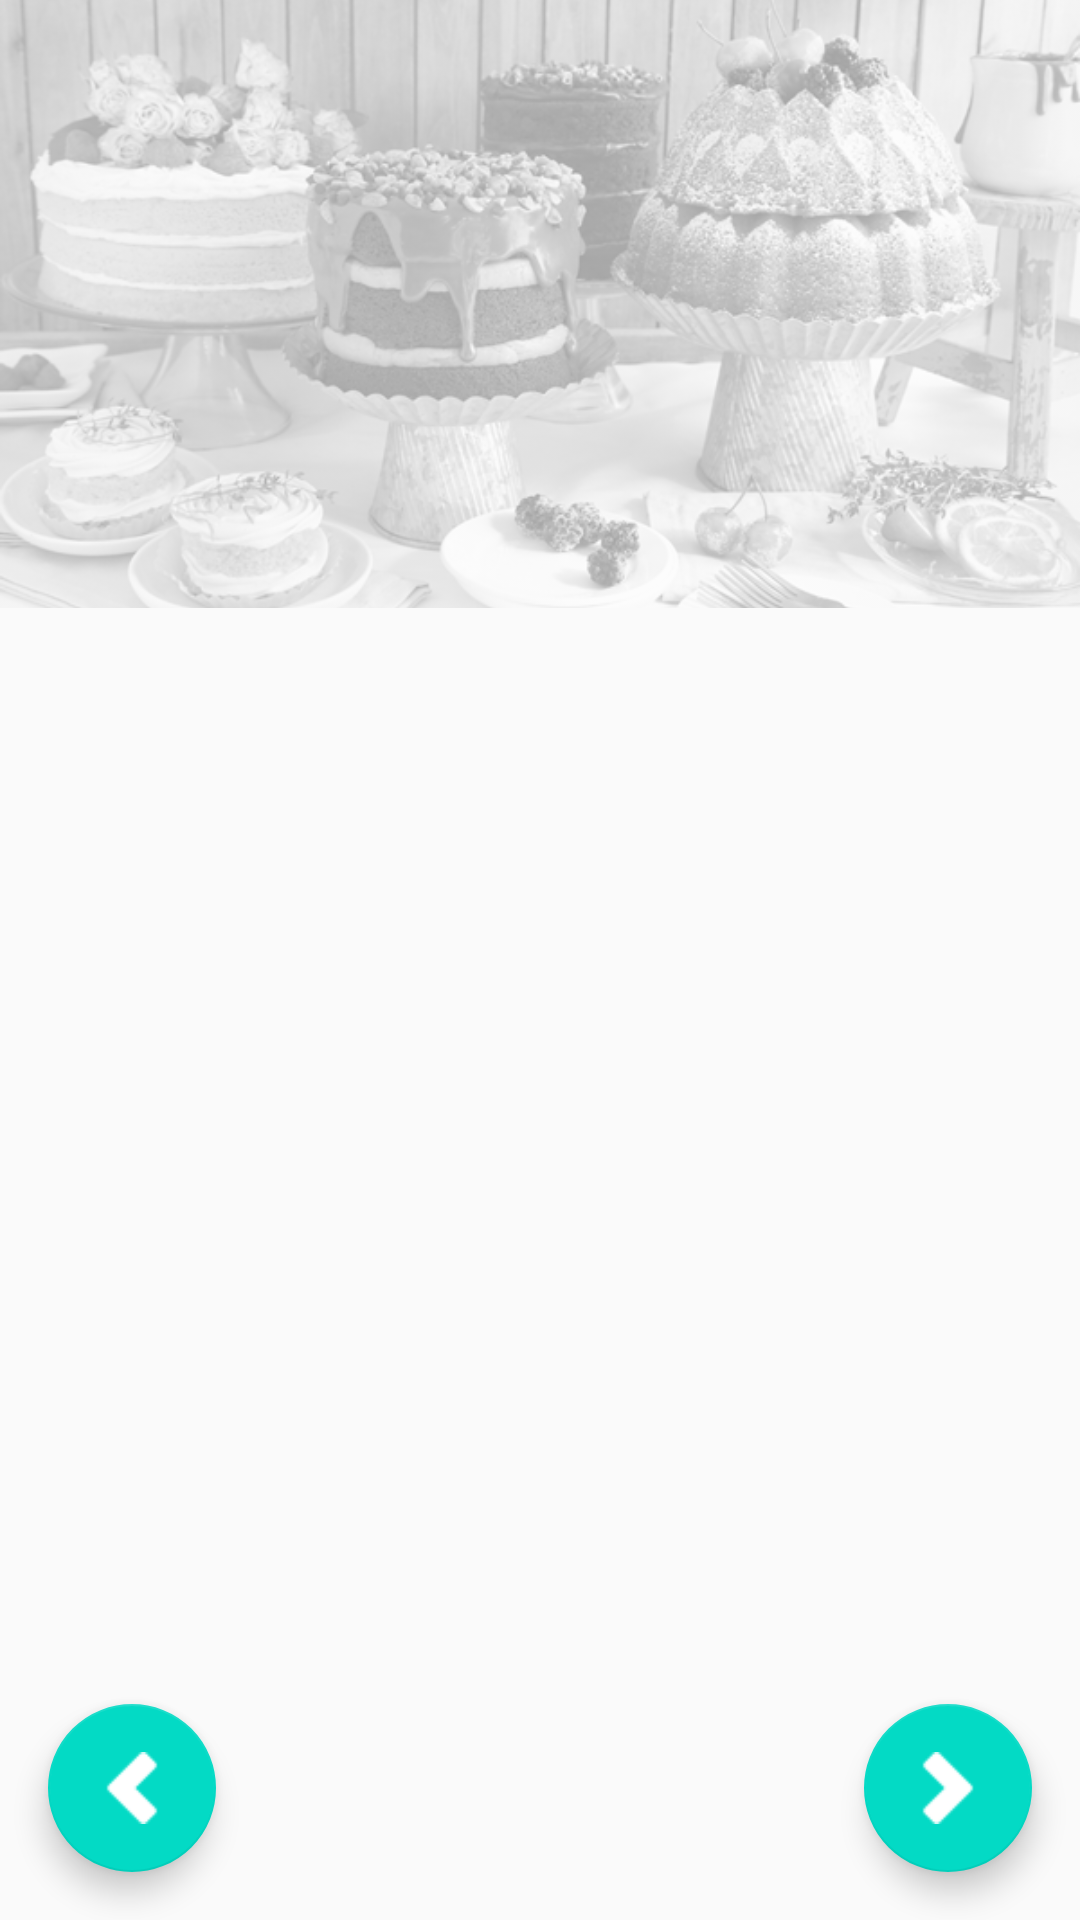

Icon bounding boxes for this 1080w x 1920h phone screenshot, format (x1, y1, x2, y2):
next: (864, 1704, 1032, 1872)
previous: (48, 1704, 216, 1872)
